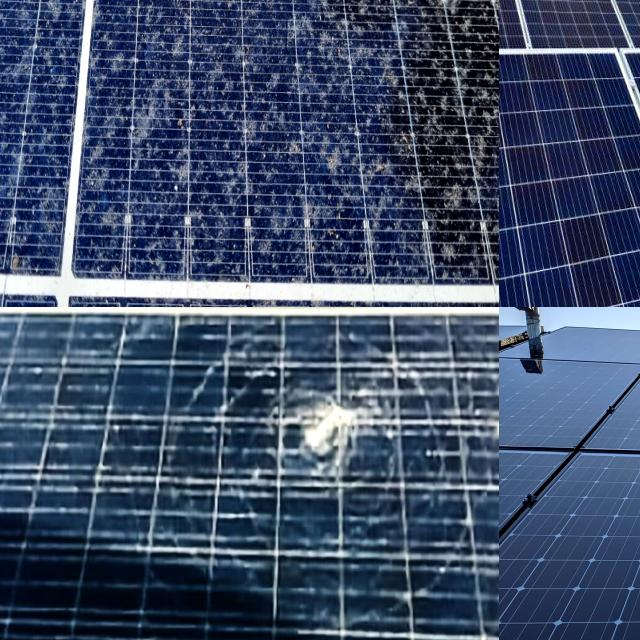crack: (499, 58, 640, 307), (500, 0, 639, 68), (578, 366, 640, 484), (552, 582, 638, 636), (499, 0, 565, 65), (588, 0, 640, 61), (531, 616, 629, 640), (517, 0, 607, 24), (499, 0, 541, 32), (499, 0, 538, 31), (618, 584, 640, 628)
dust: (109, 0, 499, 266), (0, 0, 102, 234), (123, 0, 496, 53)
hotspot: (276, 367, 415, 495), (478, 393, 499, 494)
